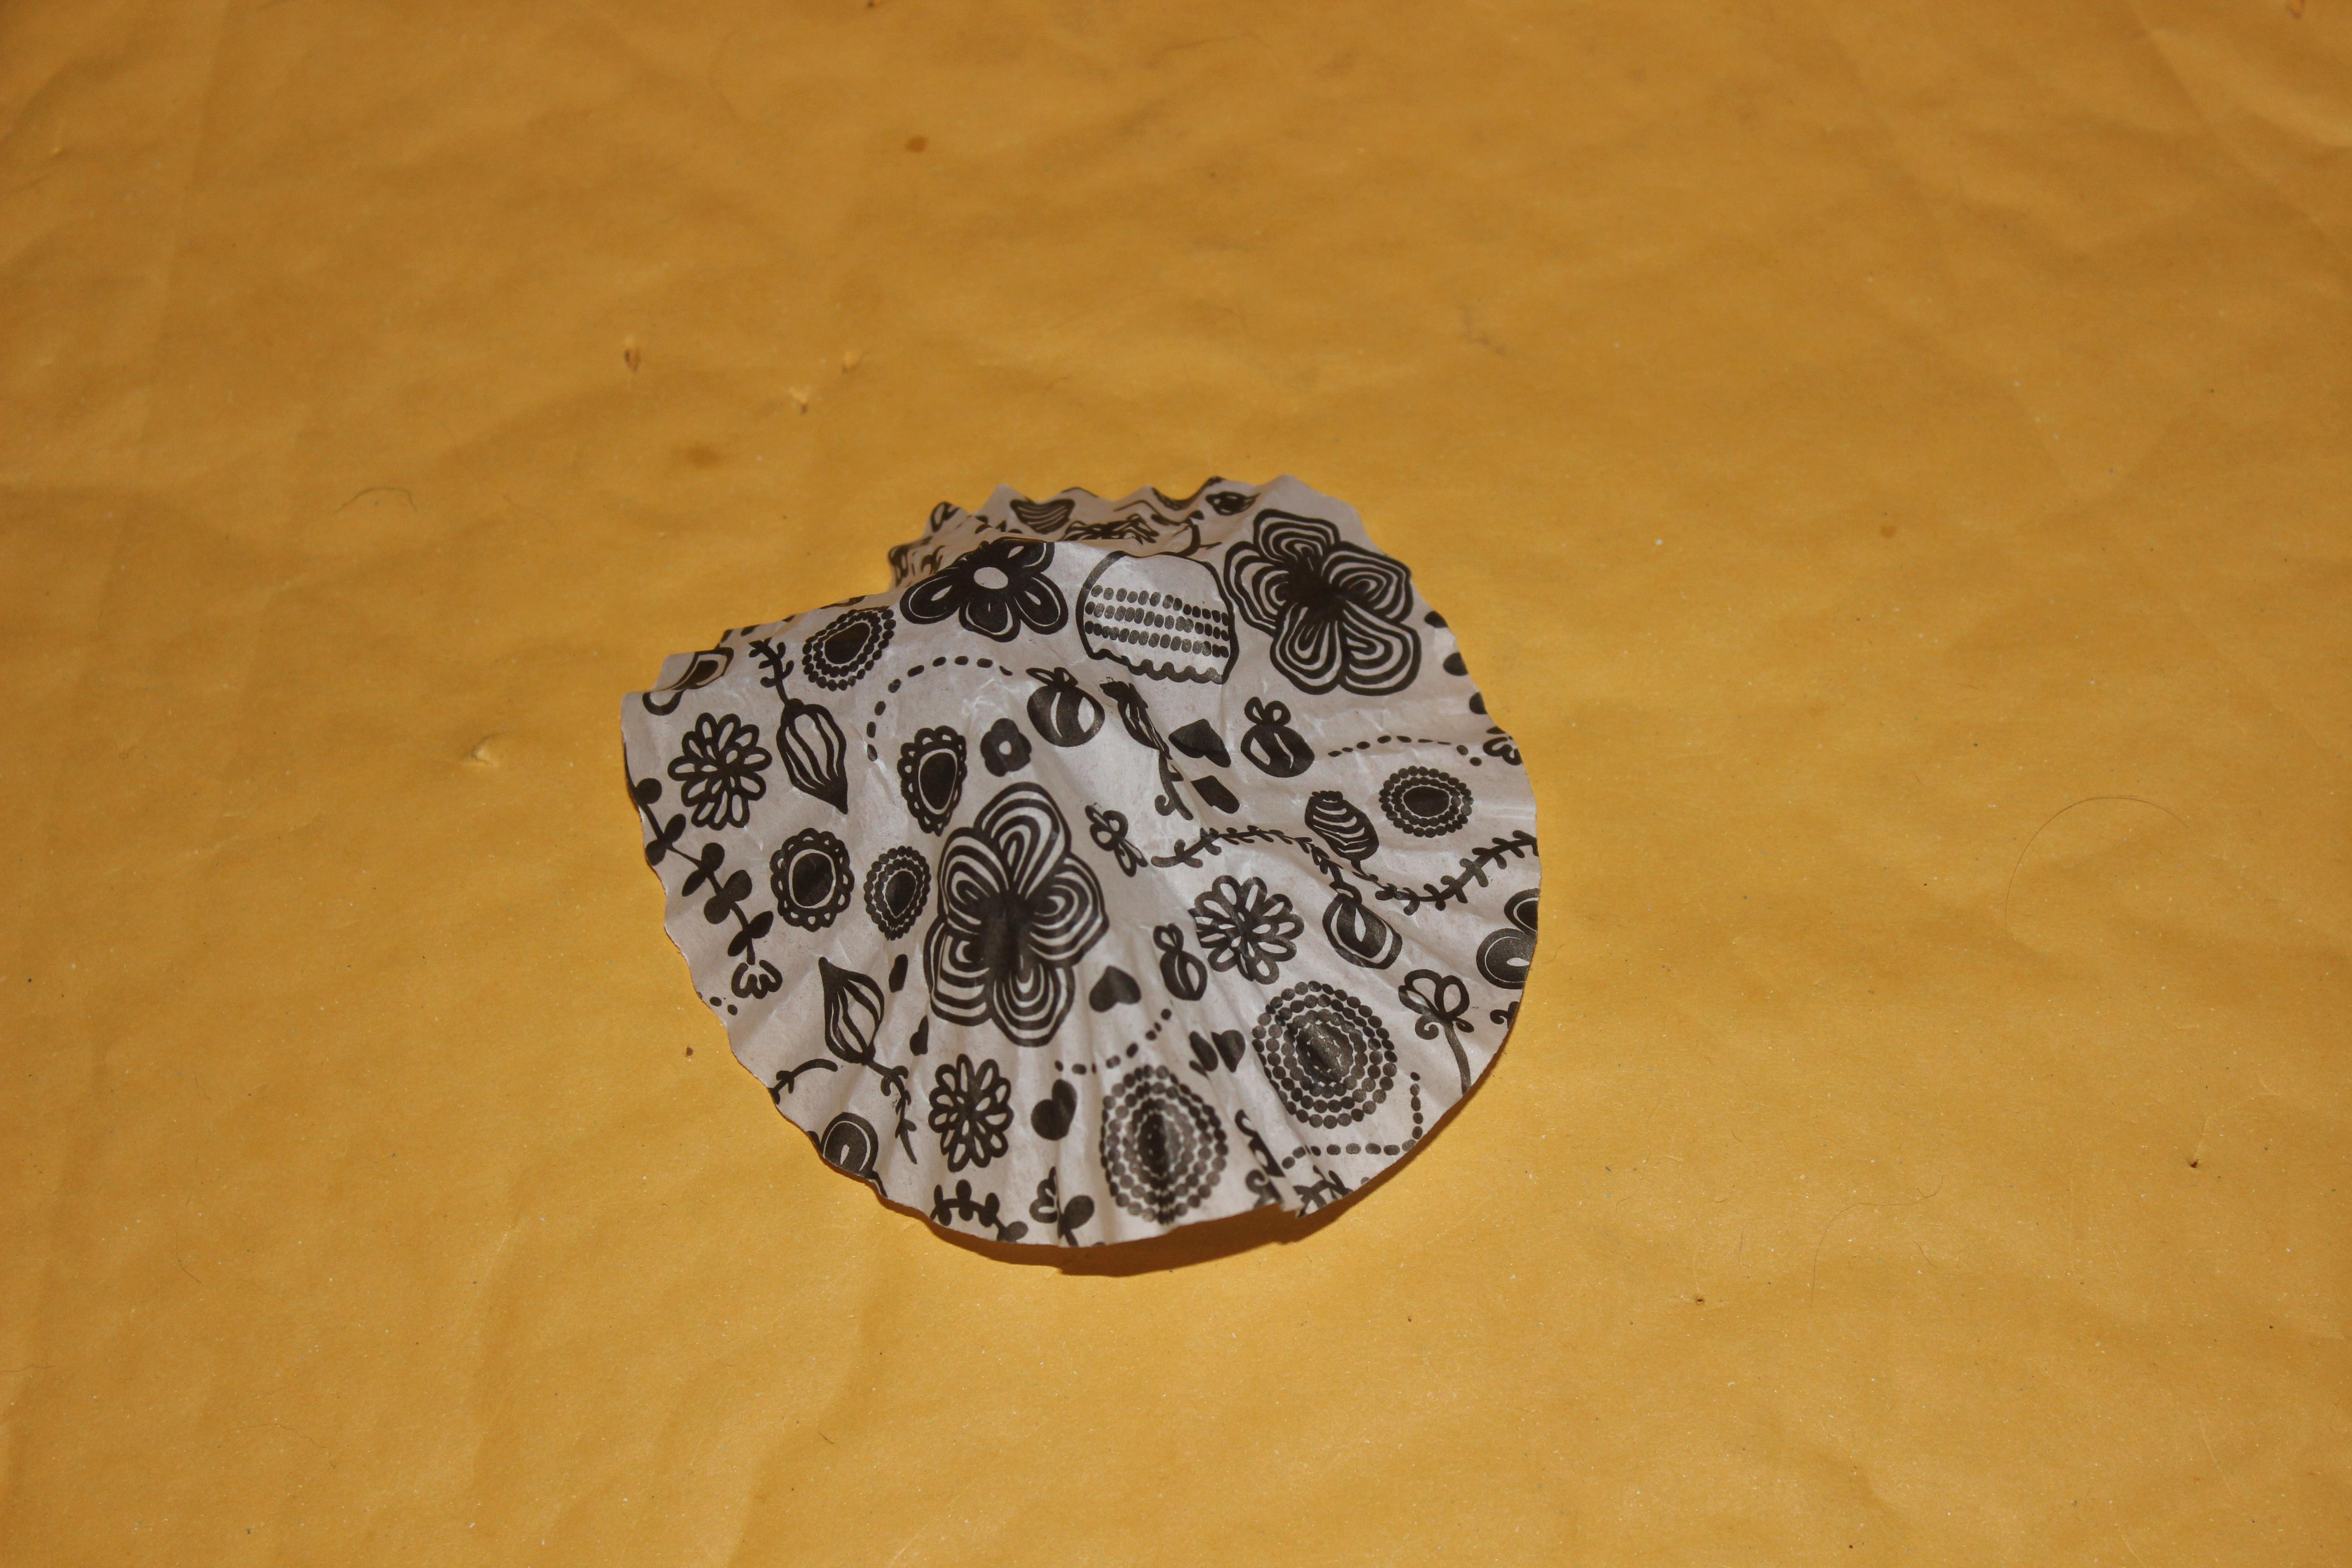cupcakePaper: (581, 441, 1564, 1304)
